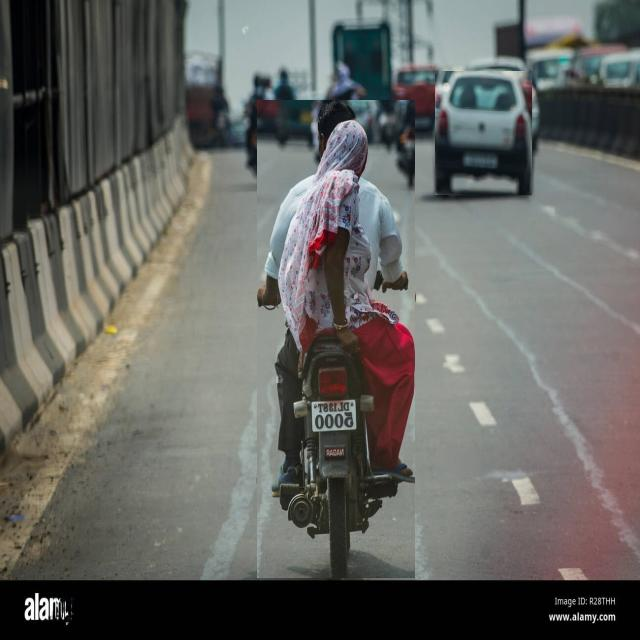car: (435, 71, 532, 195)
motorcycle: (258, 101, 415, 578)
